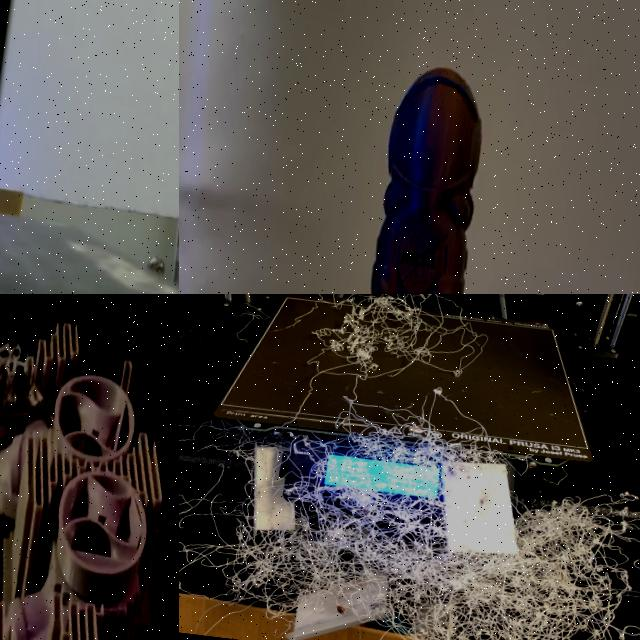spaghetti: (179, 390, 640, 640), (322, 294, 488, 374), (0, 321, 26, 369)
